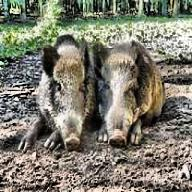boar: (16, 33, 96, 154), (94, 39, 166, 147)
